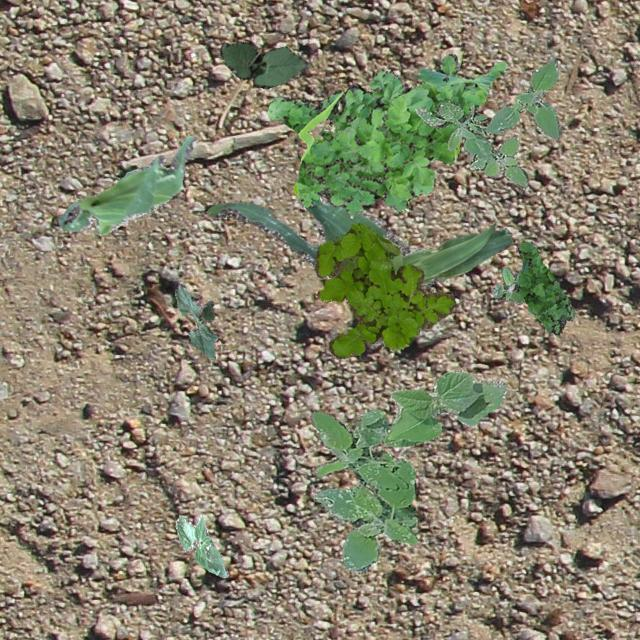crop: (204, 200, 512, 284), (56, 134, 196, 233), (382, 368, 506, 446), (218, 41, 310, 88), (175, 514, 228, 576), (174, 284, 216, 359)
weed: (266, 52, 506, 218), (314, 222, 454, 358), (414, 58, 560, 188), (308, 408, 416, 572), (514, 240, 574, 334), (490, 266, 520, 304)
